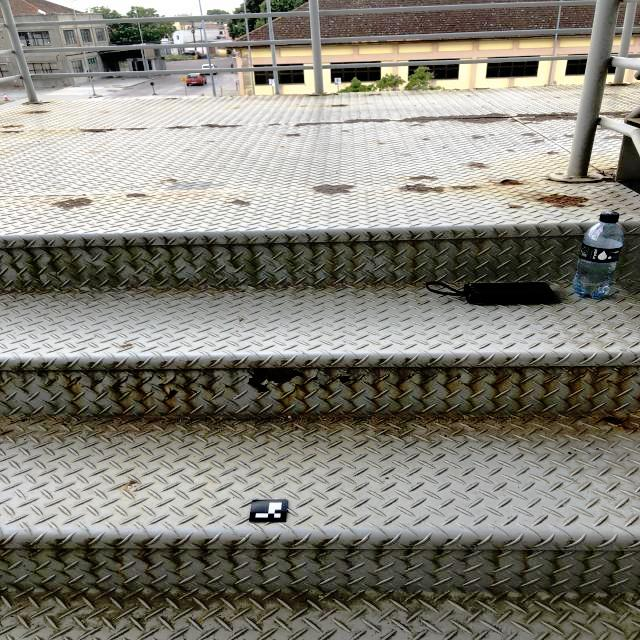Corrosion: (294, 113, 512, 127), (247, 367, 299, 392), (534, 193, 589, 208), (516, 111, 578, 122), (55, 198, 92, 210), (398, 184, 445, 193), (602, 415, 630, 429), (313, 185, 353, 194), (597, 166, 616, 182), (600, 110, 633, 118), (326, 376, 351, 385), (83, 128, 117, 133), (499, 179, 524, 185), (449, 185, 478, 190), (201, 124, 236, 128), (468, 162, 488, 169), (410, 176, 438, 180), (520, 131, 538, 137), (229, 200, 250, 205), (23, 110, 49, 114), (126, 193, 145, 198), (603, 135, 621, 140), (127, 480, 138, 488), (329, 104, 350, 108), (165, 126, 192, 129), (168, 390, 177, 398), (1, 130, 24, 133), (563, 133, 574, 139), (471, 134, 484, 139), (514, 368, 523, 375), (1, 125, 19, 128), (284, 133, 301, 136), (124, 128, 147, 130), (164, 179, 177, 182), (547, 151, 556, 155)
